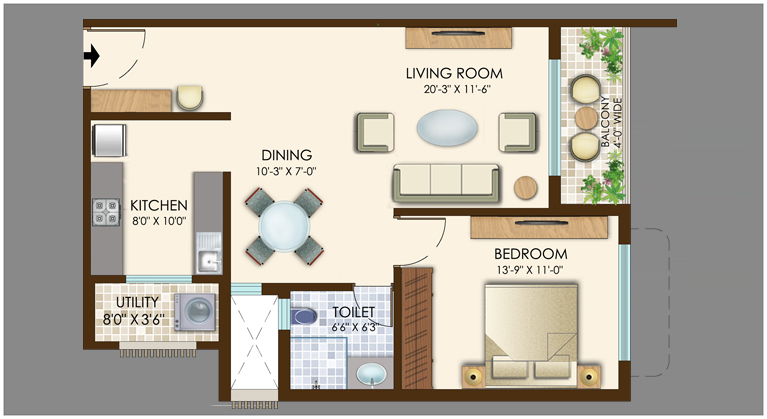balcony: (549, 19, 631, 216)
door: (91, 28, 151, 89), (400, 215, 449, 266), (350, 289, 394, 331)
restroom: (278, 283, 401, 402)
room: (393, 208, 631, 401), (83, 112, 231, 284)
window: (618, 242, 630, 360), (548, 58, 560, 176), (126, 275, 192, 284), (278, 298, 290, 329)
